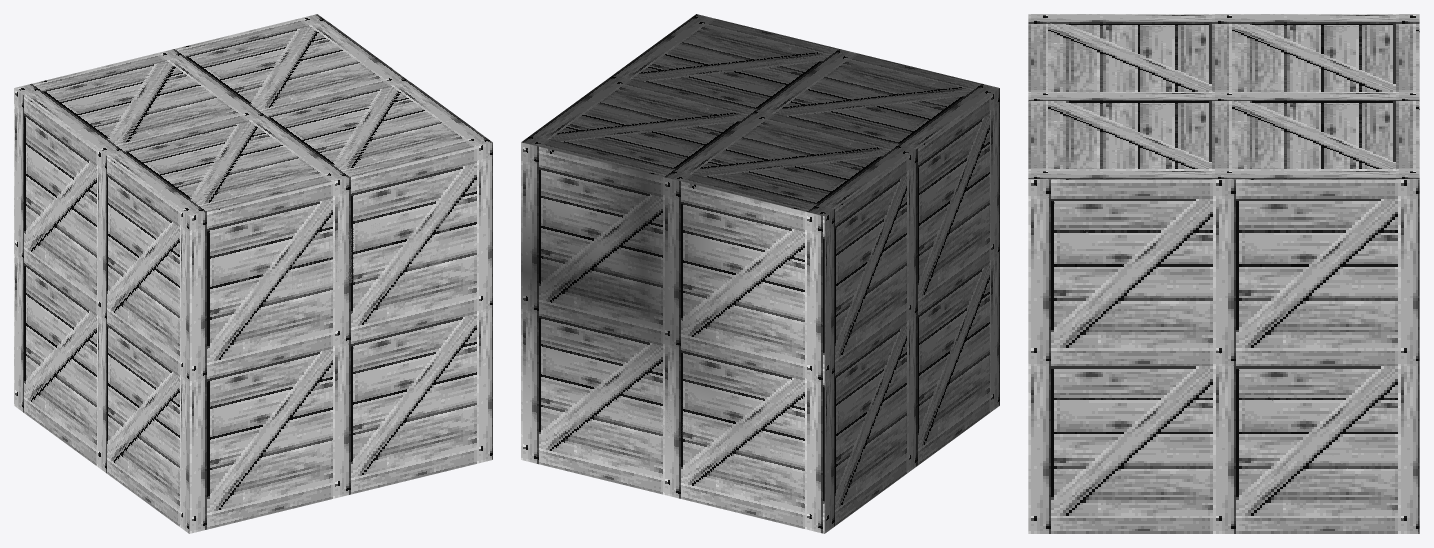
Rendered from Pwood_md_crate3Z.obj.
3 views of the same model, side by side, from view 1: azimuth 30°, elevation 25°; view 2: azimuth 150°, elevation 25°; view 3: azimuth 270°, elevation 25° (orthographic). The views are drawn at different scales.
Bounding box in the file's own units: 1050 × 1050 × 1050.
2 materials, 2 textured.
